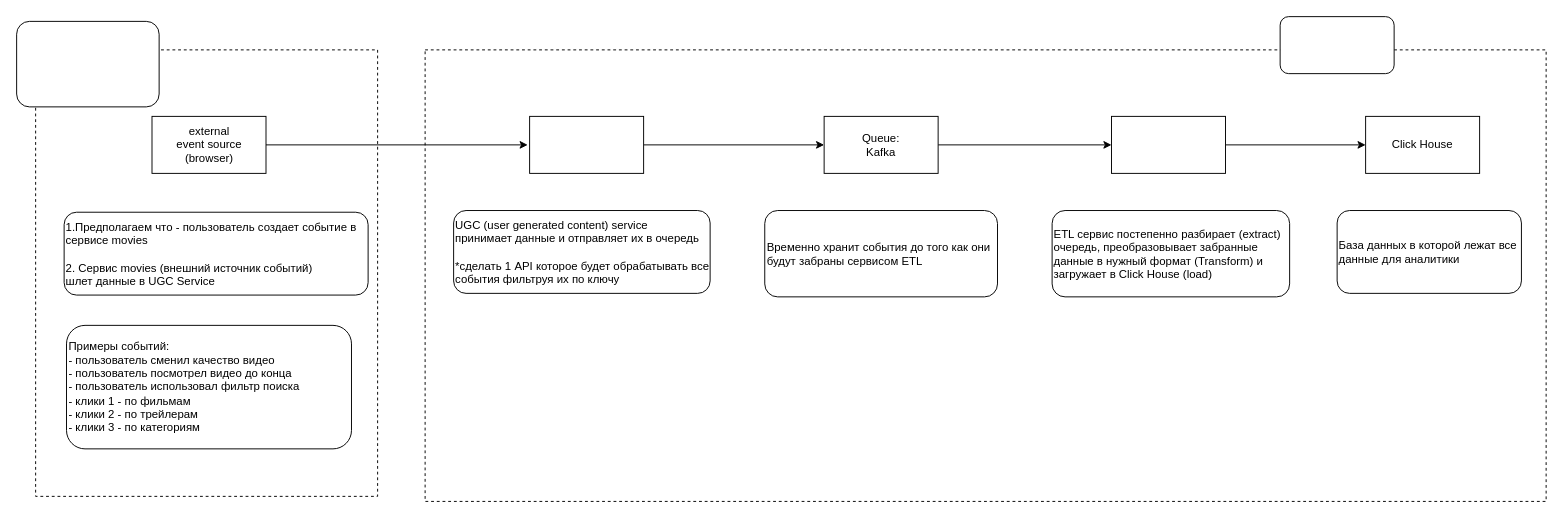
Some shapes in this 1563 by 519 pixel diagram are drawn without their labels. The shapes that lost their labels are listed below. From the top down, each one's centre as x and y in pixels, then its label:
the point at 87,63: Это в модуле реализовываться не будет
the point at 1336,45: UGC
the point at 586,144: UGC API Service (flask)
the point at 1168,144: ETL сервис (python scripts)
